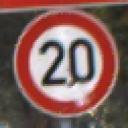speed_limit_20: (13, 11, 120, 118)
